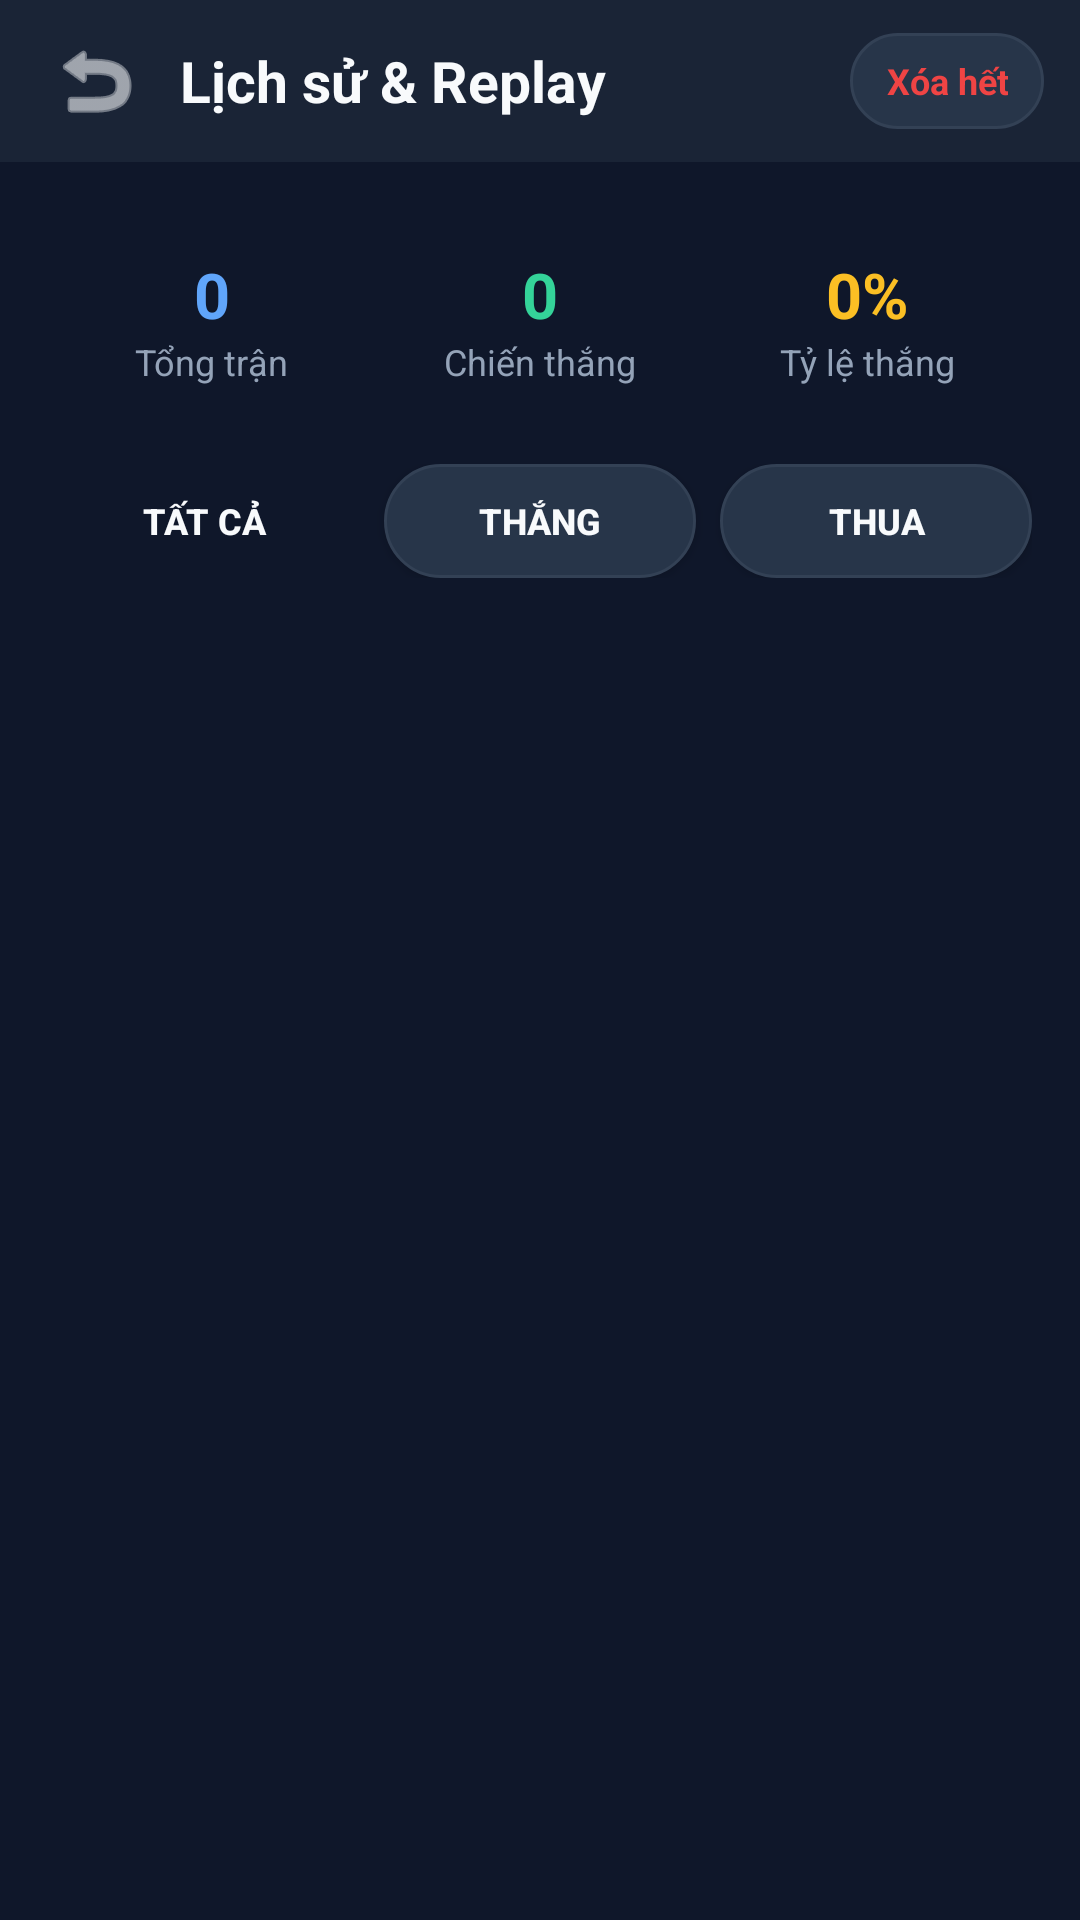

Locate icon controls on the screen. Image size 1080 x 1920, boxes as (x1, y1, x2, y2).
Back: (63, 50, 132, 113)
